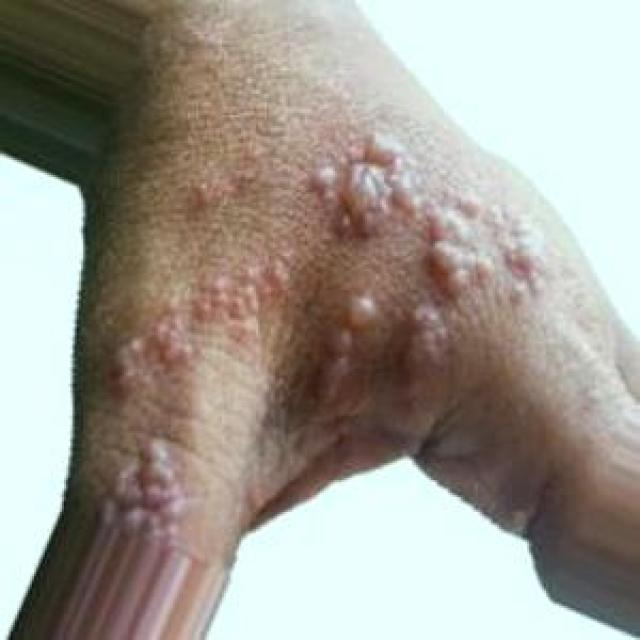Shingles: (295, 118, 551, 310), (104, 247, 302, 393), (91, 441, 186, 532), (316, 291, 378, 415), (398, 294, 448, 402)
